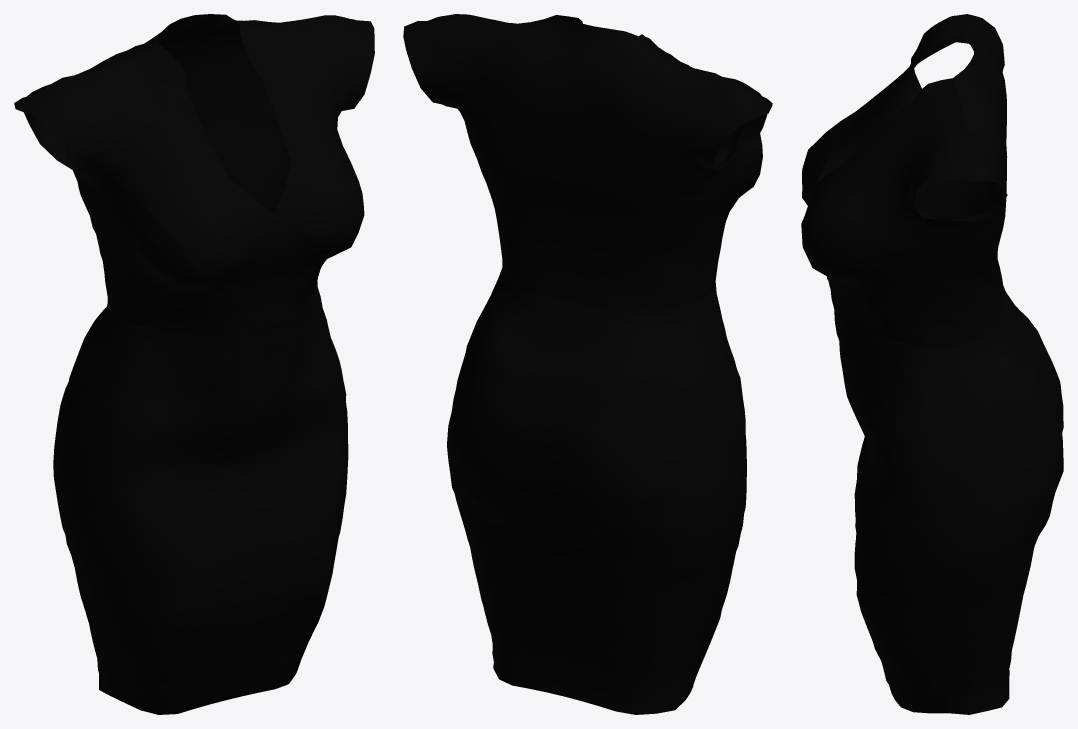
File: large_blackBusiness_noinside.obj
3 renders of one model, left to right at view 1: azimuth 30°, elevation 25°; view 2: azimuth 150°, elevation 25°; view 3: azimuth 270°, elevation 25°, orthographic. The views are drawn at different scales.
Visible parts, largest first — view 1: large_blackBusiness:polySurface1; view 2: large_blackBusiness:polySurface1; view 3: large_blackBusiness:polySurface1.
Part boxes in pixels (x1,y1,x2,y2): large_blackBusiness:polySurface1: (14, 14, 374, 714); large_blackBusiness:polySurface1: (403, 14, 772, 714); large_blackBusiness:polySurface1: (801, 14, 1063, 714).
Size of the model in its own units: 517 by 908 by 344.
Materials: 6 (6 with a texture image).
